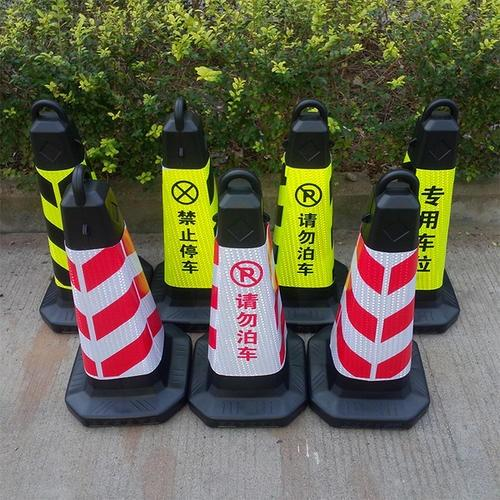cone_barrel: (57, 164, 176, 399), (321, 169, 429, 406), (196, 162, 298, 401), (271, 101, 344, 318), (27, 99, 95, 321), (153, 101, 226, 305), (394, 106, 467, 305)
